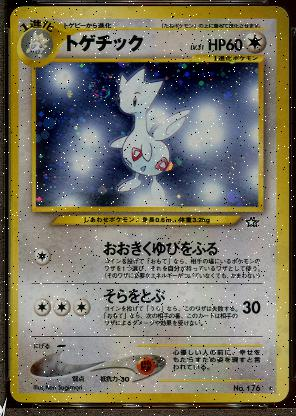Card: (9, 6, 289, 404)
